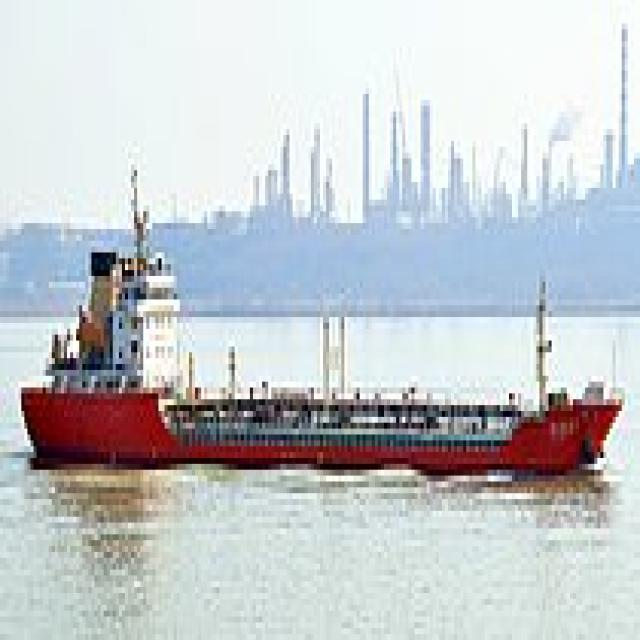Tanker: (12, 152, 625, 476)
